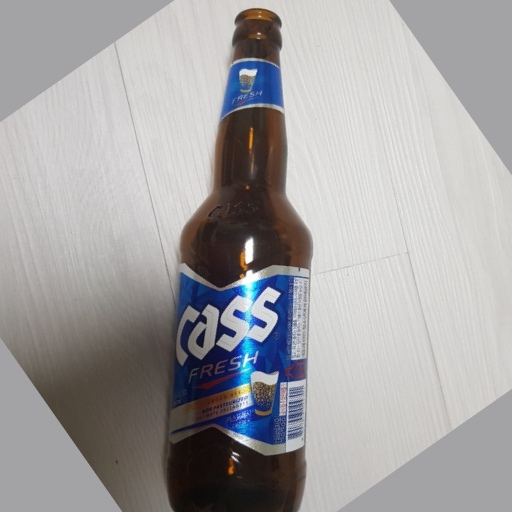Glass_1: (166, 7, 319, 512)
